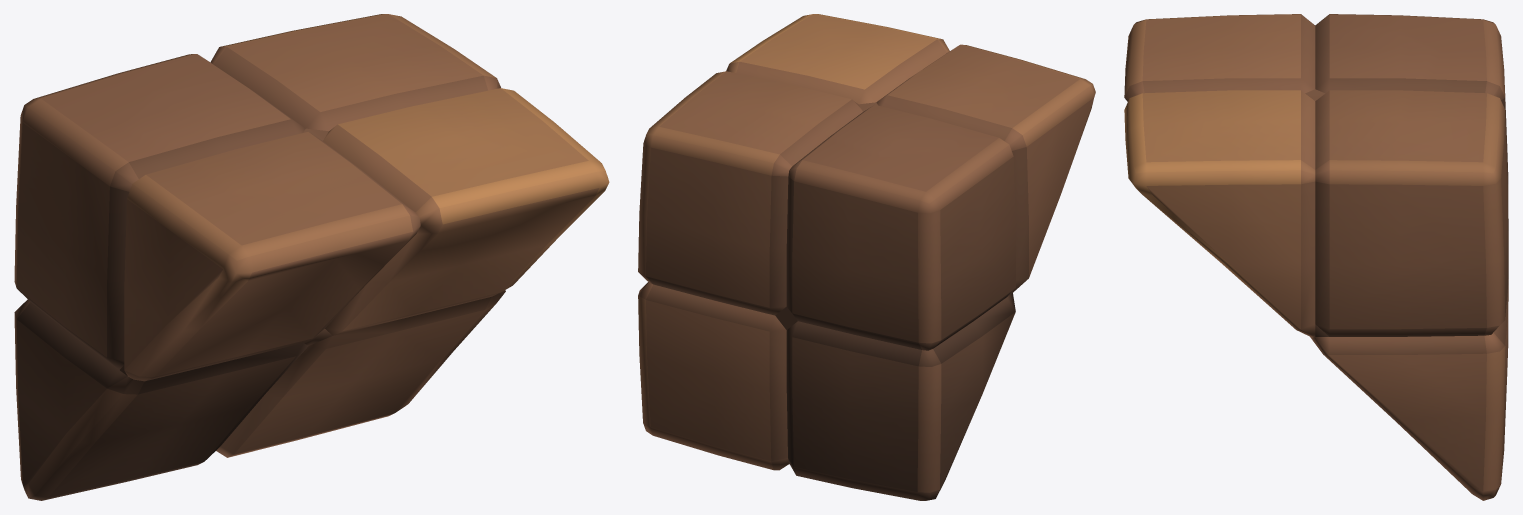
The model's file is Brick_Brown_SlopeUnder.fbx.
The picture shows the model from 3 angles, left to right: view 1: azimuth 30°, elevation 25°; view 2: azimuth 150°, elevation 25°; view 3: azimuth 270°, elevation 25°; orthographic projection. The views are drawn at different scales.
Parts seen in each view (by area): view 1: Brick_Brown_SlopeUnder_LOD0; view 2: Brick_Brown_SlopeUnder_LOD0; view 3: Brick_Brown_SlopeUnder_LOD0.
Boxes of the visible parts, x1,y1,x2,y2 form: Brick_Brown_SlopeUnder_LOD0: (14,14,609,500); Brick_Brown_SlopeUnder_LOD0: (638,14,1095,500); Brick_Brown_SlopeUnder_LOD0: (1124,14,1508,500).
Size of what is drawn, in the model's own units: 1.08 by 1.07 by 1.07.
